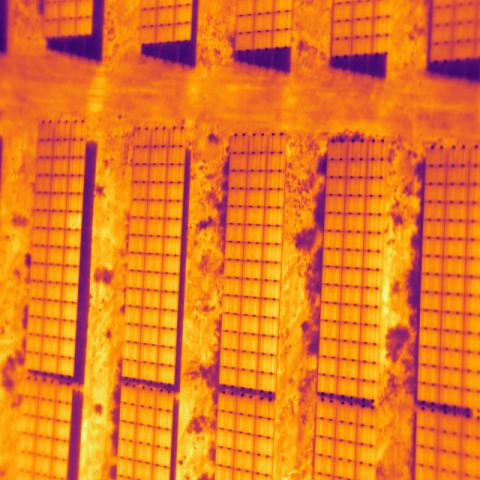fault: (65, 212, 82, 230)
